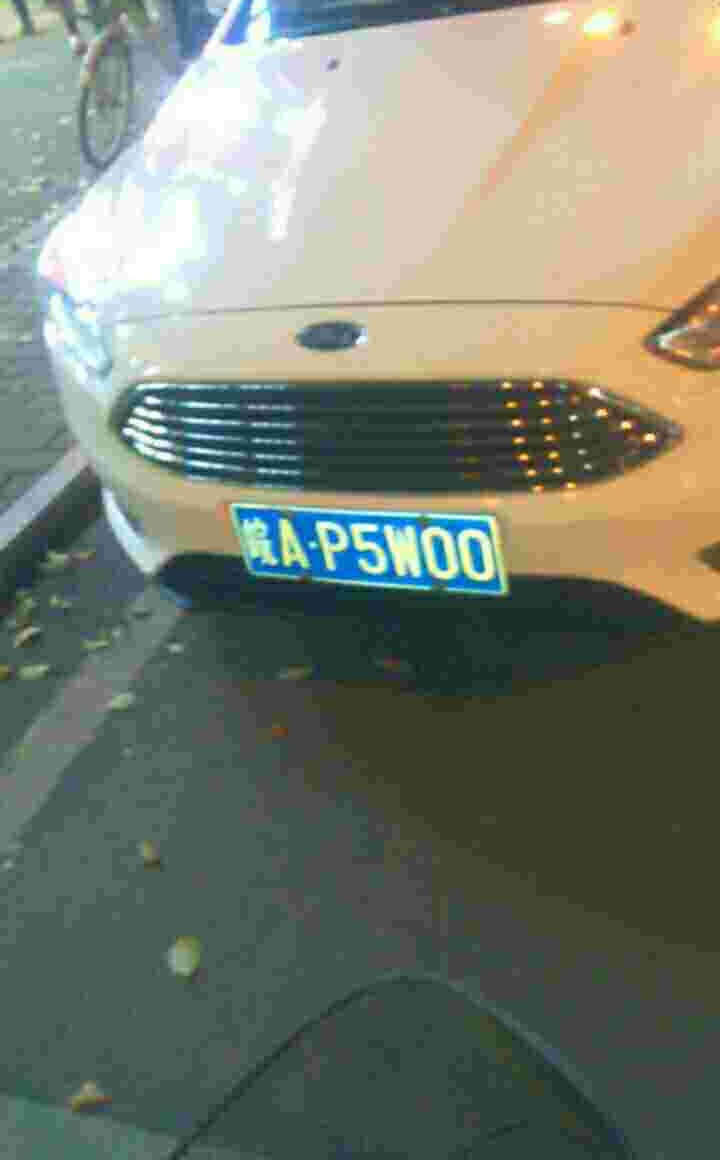car: (233, 501, 522, 600)
